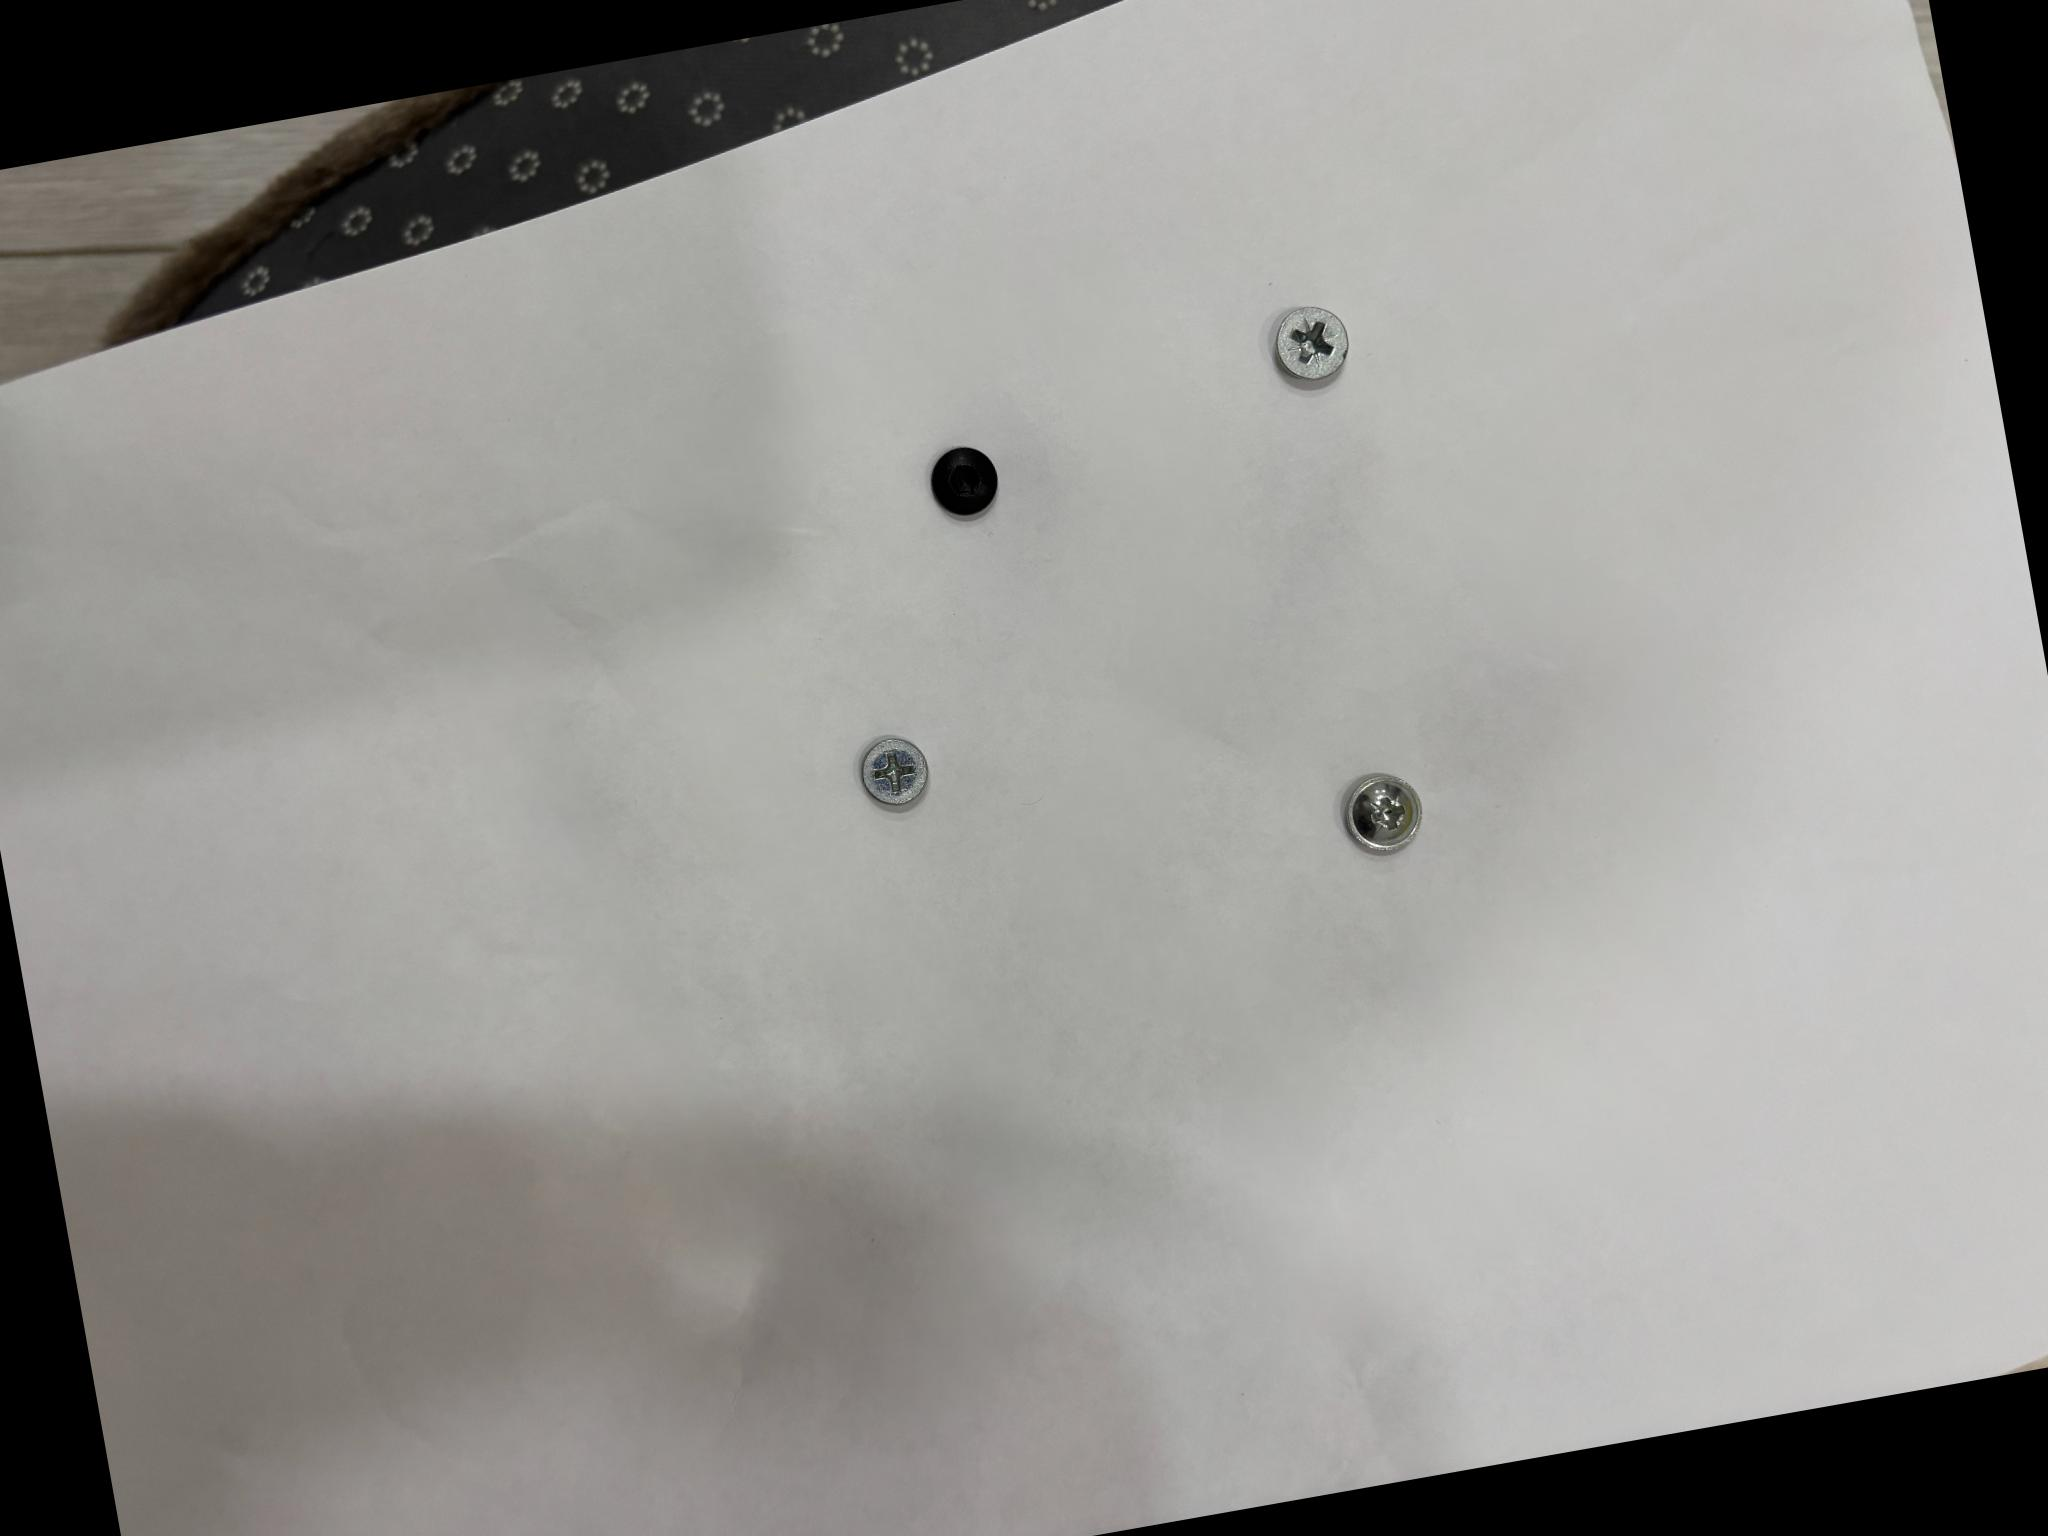H: (930, 447, 997, 518)
PH: (861, 737, 927, 805)
PZ: (1342, 774, 1421, 852), (1274, 307, 1347, 379)
